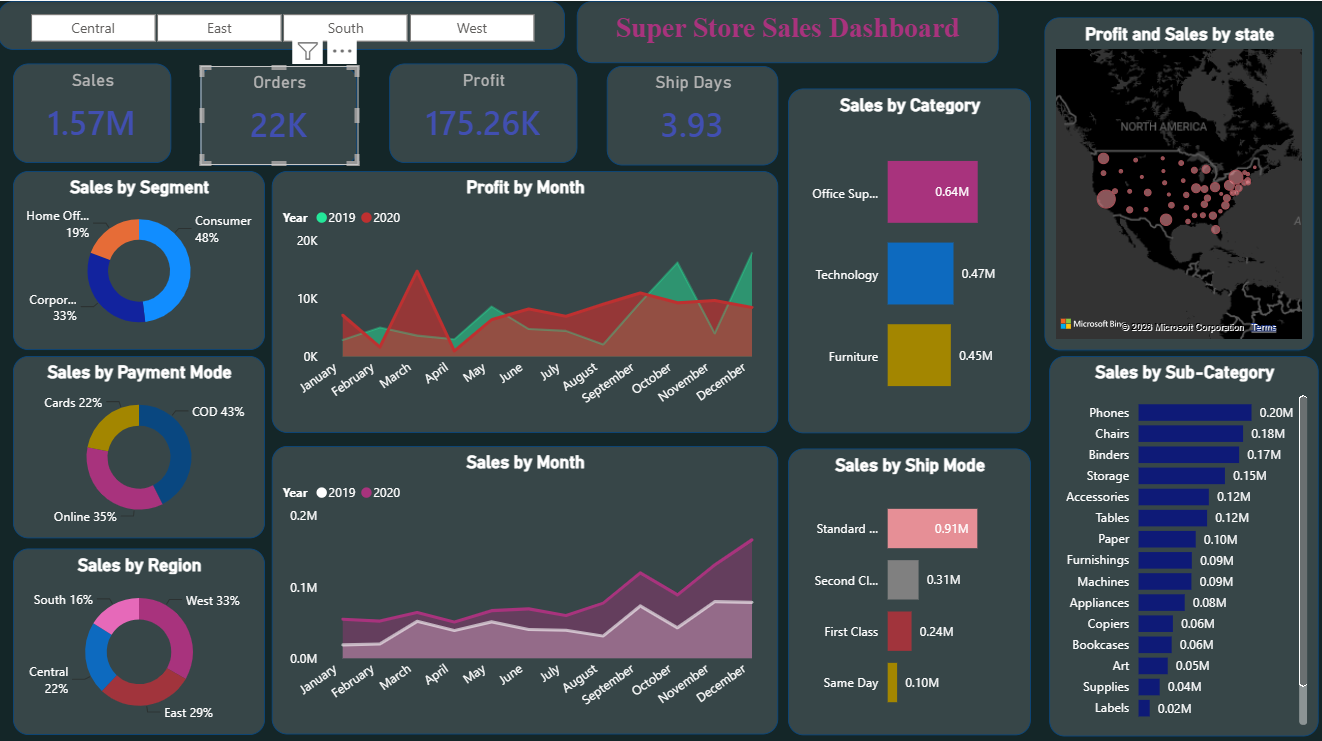

What the dashboard file says about the page in this screenshot:
{"tool":"powerbi","page":{"name":"Dashboard","canvas":[1280,720],"ordinal":0},"visuals":[{"type":"clusteredBarChart","title":"Sales by Category","fields":{"Category":["SuperStore_Sales_Dataset.Category"],"Y":["Sum(SuperStore_Sales_Dataset.Sales)"]},"box":[762.9,84.3,234.3,332.9],"z":0},{"type":"clusteredBarChart","title":"Sales by Sub-Category","fields":{"Category":["SuperStore_Sales_Dataset.Sub-Category"],"Y":["Sum(SuperStore_Sales_Dataset.Sales)"]},"box":[1014.3,342.9,260,367.1],"z":1000},{"type":"clusteredBarChart","title":"Sales by Ship Mode","fields":{"Category":["SuperStore_Sales_Dataset.Ship Mode"],"Y":["Sum(SuperStore_Sales_Dataset.Sales)"]},"box":[762.9,431.4,234.3,277.1],"z":2000},{"type":"areaChart","title":"Sales by Month","fields":{"Category":["SuperStore_Sales_Dataset.Order Date.Variation.Date Hierarchy.Month","SuperStore_Sales_Dataset.Order Date.Variation.Date Hierarchy.Day"],"Y":["Sum(SuperStore_Sales_Dataset.Sales)"],"Series":["SuperStore_Sales_Dataset.Order Date.Variation.Date Hierarchy.Year"]},"box":[264.3,430,488.6,278.6],"z":3000},{"type":"areaChart","title":"Profit by Month","fields":{"Category":["SuperStore_Sales_Dataset.Order Date.Variation.Date Hierarchy.Month","SuperStore_Sales_Dataset.Order Date.Variation.Date Hierarchy.Day"],"Series":["SuperStore_Sales_Dataset.Order Date.Variation.Date Hierarchy.Year"],"Y":["Sum(SuperStore_Sales_Dataset.Profit)"]},"box":[264.3,164.3,488.6,252.9],"z":4000},{"type":"map","title":"Profit and Sales by state","fields":{"Category":["SuperStore_Sales_Dataset.State"],"Size":["Sum(SuperStore_Sales_Dataset.Sales)"]},"box":[1010,15.7,260,321.4],"z":5000},{"type":"donutChart","title":"Sales by Segment","fields":{"Category":["SuperStore_Sales_Dataset.Segment"],"Y":["Sum(SuperStore_Sales_Dataset.Sales)"]},"box":[14.3,164.3,242.9,172.9],"z":6000},{"type":"donutChart","title":"Sales by Payment Mode","fields":{"Y":["Sum(SuperStore_Sales_Dataset.Sales)"],"Category":["SuperStore_Sales_Dataset.Payment Mode"]},"box":[14.3,342.9,242.9,175.7],"z":7000},{"type":"donutChart","title":"Sales by Region","fields":{"Category":["SuperStore_Sales_Dataset.Region"],"Y":["Sum(SuperStore_Sales_Dataset.Sales)"]},"box":[14.3,528.6,242.9,180],"z":8000},{"type":"slicer","fields":{"Values":["SuperStore_Sales_Dataset.Region"]},"box":[0,0,547.1,47.1],"z":9000},{"type":"textbox","box":[558.6,0,407.1,60],"z":10000},{"type":"cardVisual","title":"Sales","fields":{"Data":["Sum(SuperStore_Sales_Dataset.Sales)"]},"box":[14.3,60,152.9,95.7],"z":11000},{"type":"cardVisual","title":"Profit","fields":{"Data":["Sum(SuperStore_Sales_Dataset.Profit)"]},"box":[377.1,60,181.4,95.7],"z":12000},{"type":"cardVisual","title":"Orders","fields":{"Data":["Sum(SuperStore_Sales_Dataset.Quantity)"]},"box":[195.7,62.9,151.4,95.7],"z":13000},{"type":"cardVisual","title":"Ship Days","fields":{"Data":["Avg(SuperStore_Sales_Dataset.Avgdelivery)"]},"box":[587.1,62.9,165.7,95.7],"z":14000}]}

Visuals, with their boxes in screenshot pixels (x1, y1, x2, y2), scaled from the page's 1280x720 canvas onto the 1322x741 screenshot:
"Sales by Category" clusteredBarChart: Rect(788, 87, 1030, 429)
"Sales by Sub-Category" clusteredBarChart: Rect(1048, 353, 1316, 731)
"Sales by Ship Mode" clusteredBarChart: Rect(788, 444, 1030, 729)
"Sales by Month" areaChart: Rect(273, 443, 778, 729)
"Profit by Month" areaChart: Rect(273, 169, 778, 429)
"Profit and Sales by state" map: Rect(1043, 16, 1312, 347)
"Sales by Segment" donutChart: Rect(15, 169, 266, 347)
"Sales by Payment Mode" donutChart: Rect(15, 353, 266, 534)
"Sales by Region" donutChart: Rect(15, 544, 266, 729)
slicer - SuperStore_Sales_Dataset.Region: Rect(0, 0, 565, 48)
textbox: Rect(577, 0, 997, 62)
"Sales" cardVisual: Rect(15, 62, 173, 160)
"Profit" cardVisual: Rect(389, 62, 577, 160)
"Orders" cardVisual: Rect(202, 65, 358, 163)
"Ship Days" cardVisual: Rect(606, 65, 778, 163)
